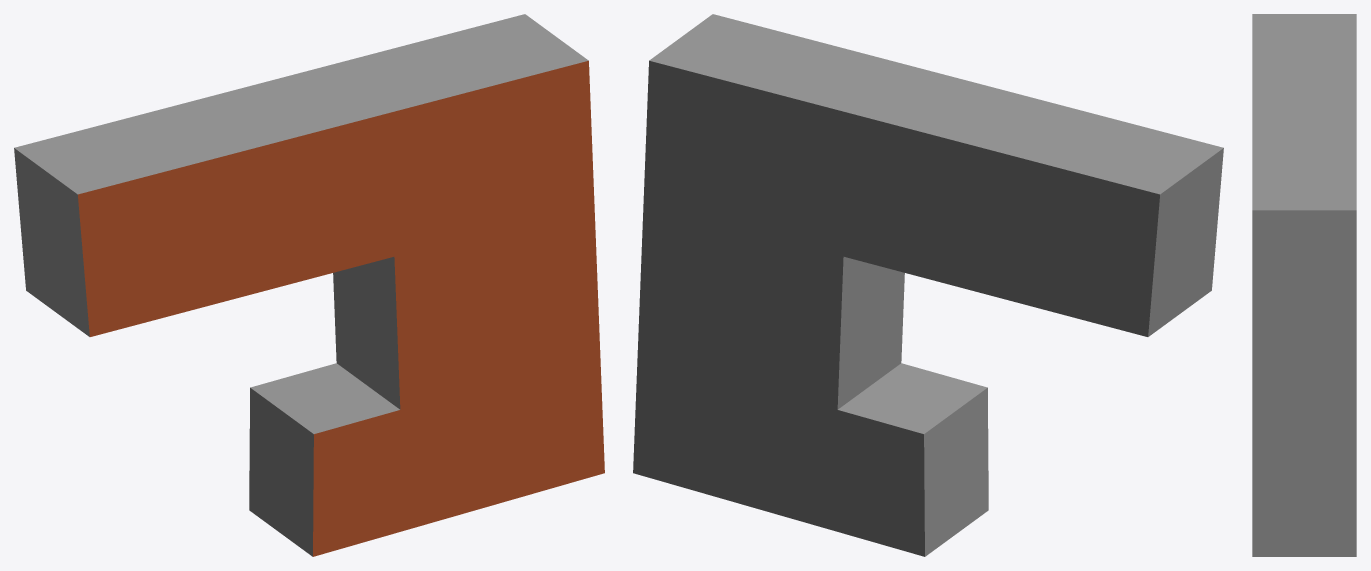
Rendered from construction_4590_actual_A_Casa_h5m.obj.
3 views of the same model, side by side, from view 1: azimuth 30°, elevation 25°; view 2: azimuth 150°, elevation 25°; view 3: azimuth 270°, elevation 25° (orthographic). The views are drawn at different scales.
Visible parts, largest first — view 1: construction_4590_actual_A_Casa; view 2: construction_4590_actual_A_Casa; view 3: construction_4590_actual_A_Casa.
Part boxes in pixels (x1,y1,x2,y2): construction_4590_actual_A_Casa: [14, 14, 604, 556]; construction_4590_actual_A_Casa: [633, 14, 1223, 556]; construction_4590_actual_A_Casa: [1252, 14, 1356, 556].
Bounding box in the file's own units: 23.86 × 18.55 × 5.
